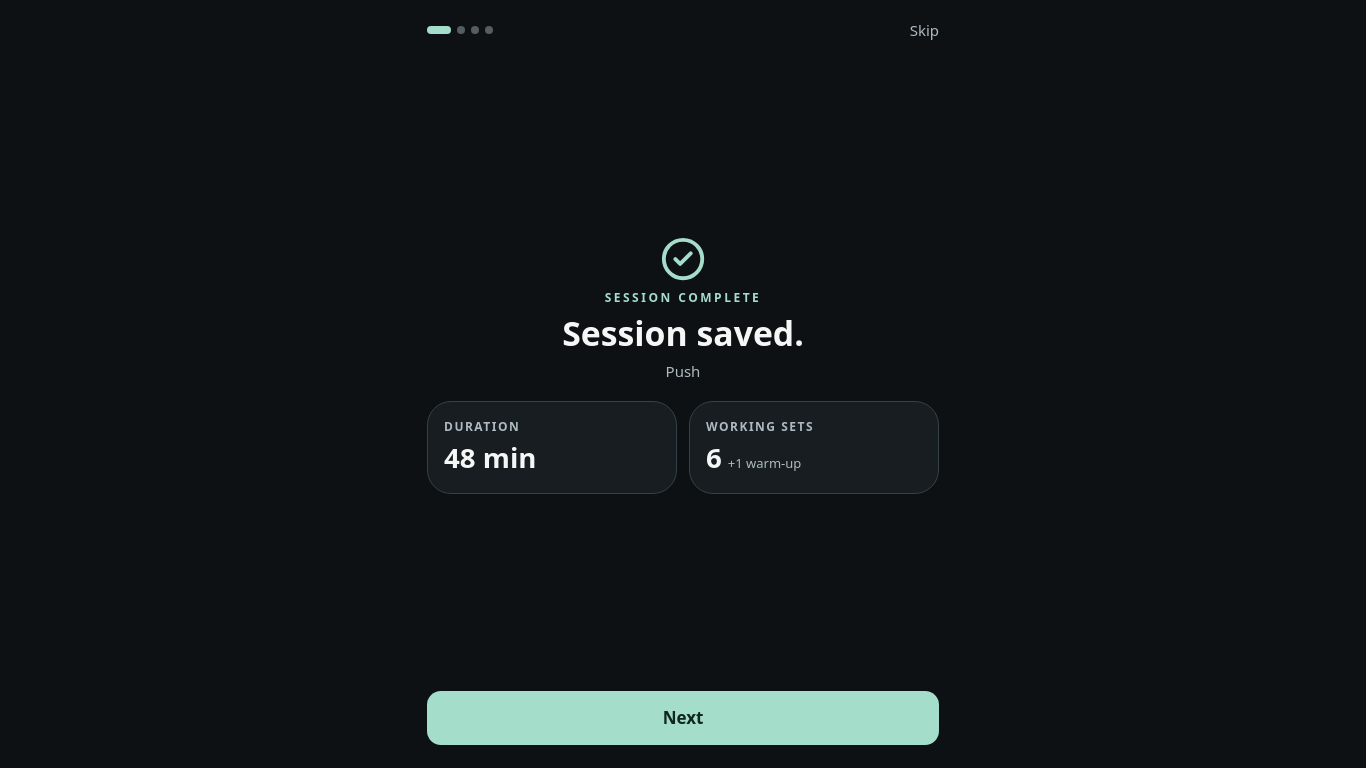
Test: finish screens › steps through every screen and finishes on the last
Later steps or results of the test are not shown.
Expected: the element with test id "finishStats" shows "48 min", [444, 438, 536, 476]
Click the button with test id "celebrationNext": (683, 718) [427, 691, 939, 745]
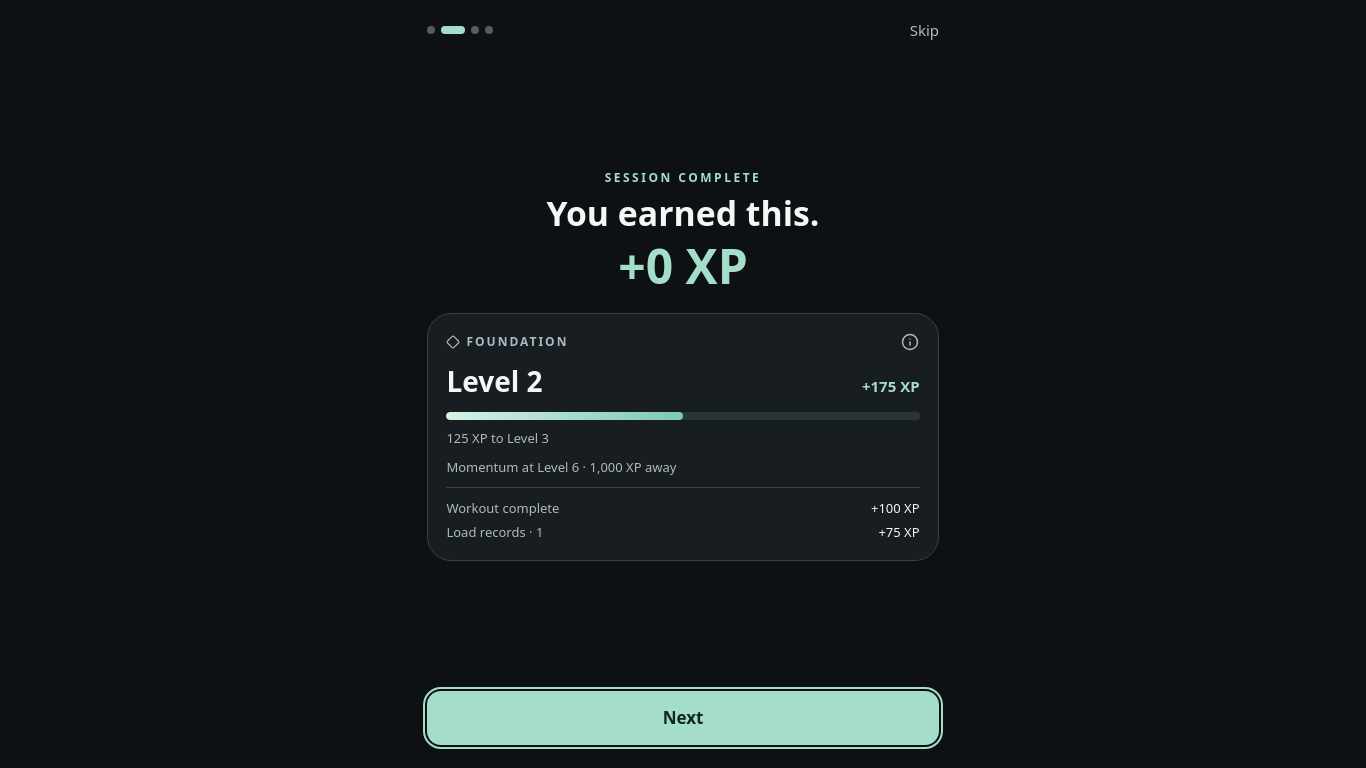
Click the button with test id "celebrationNext": (683, 718) [427, 691, 939, 745]
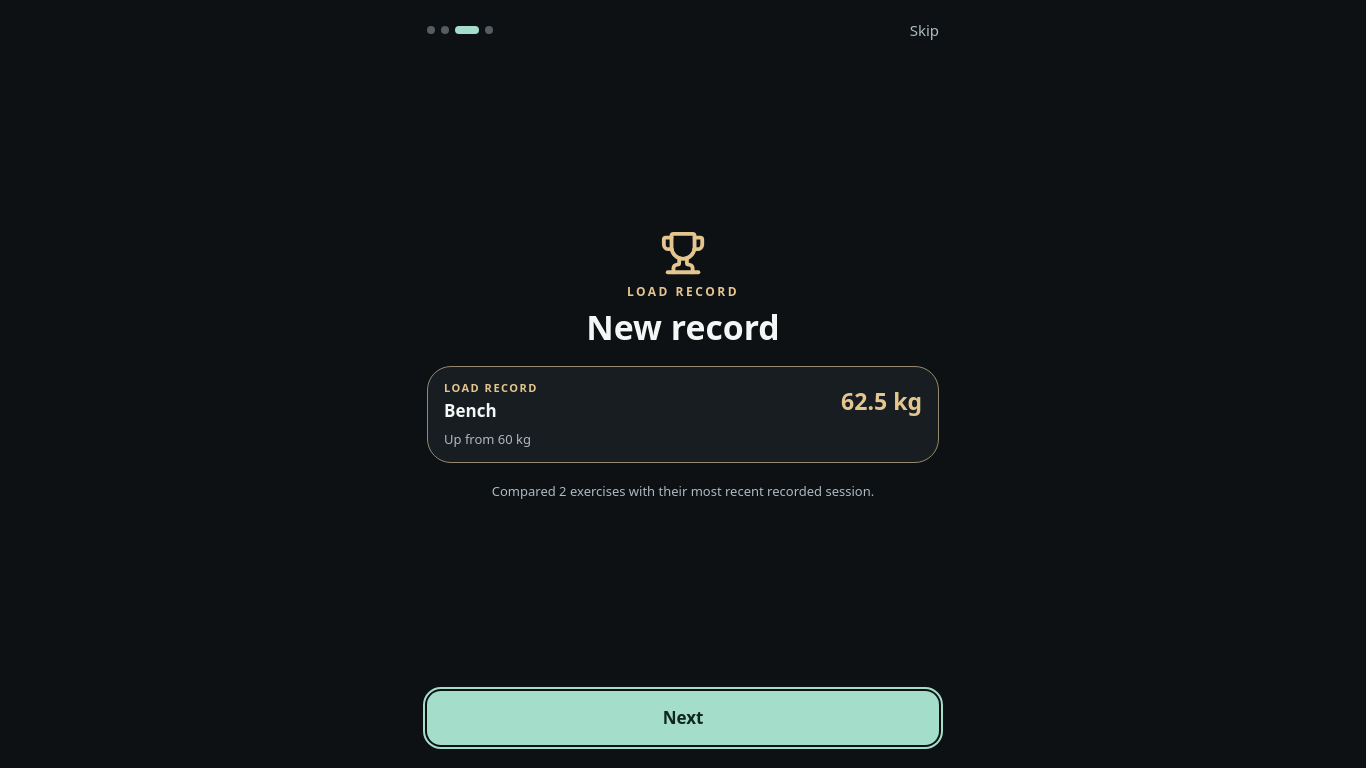
Expected: the list item with test id "highlight" shows "Load record", [444, 380, 538, 395]
Click the button with test id "celebrationNext": (683, 718) [427, 691, 939, 745]
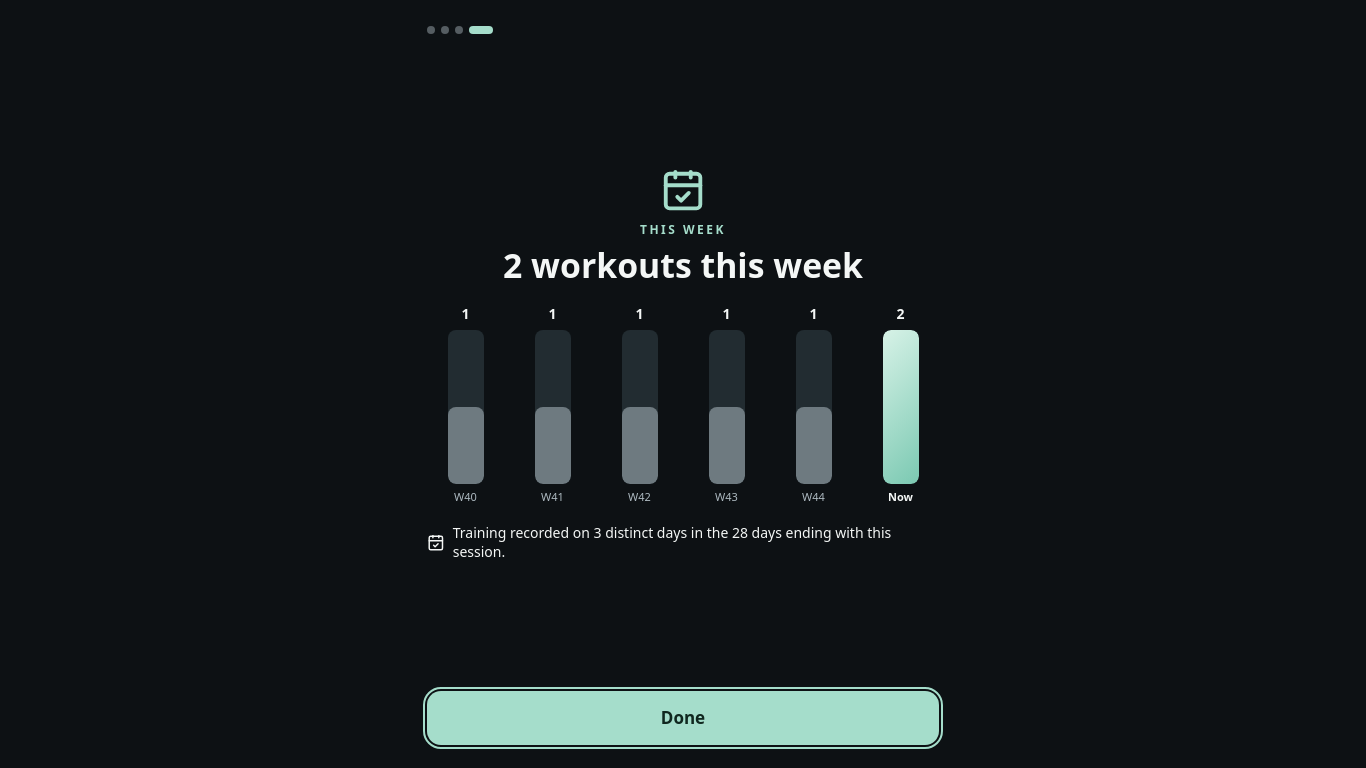
Expected: the picture named "Week 45: 2" is shown, [427, 305, 939, 504]
Expected: the button with test id "celebrationSkip" is gone
